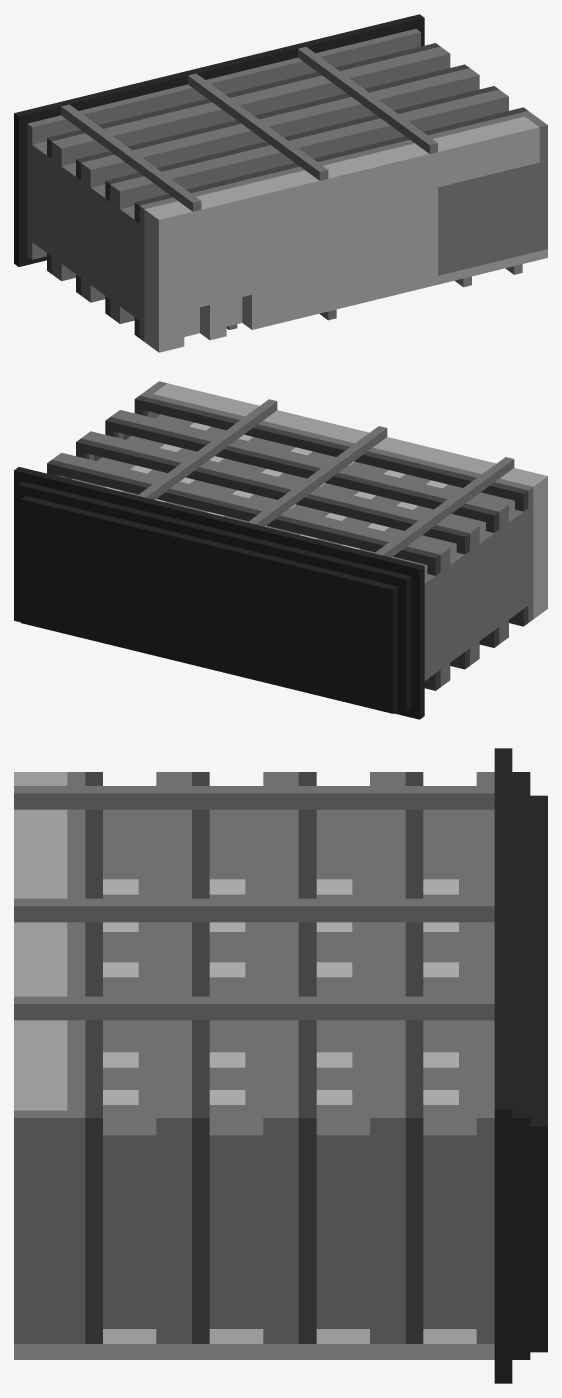
Rendered from yoshida12.fbx.
3 views of the same model, one above another, from view 1: azimuth 30°, elevation 25°; view 2: azimuth 150°, elevation 25°; view 3: azimuth 270°, elevation 25° (orthographic). The views are drawn at different scales.
Visible parts, largest first — view 1: Default; view 2: Default; view 3: Default.
Boxes of the visible parts, x1,y1,x2,y2 form: Default: [14, 14, 547, 352]; Default: [14, 381, 547, 719]; Default: [14, 748, 547, 1383].
Bounding box in the file's own units: 48 × 17 × 30.
Materials: 1 (1 with a texture image).
